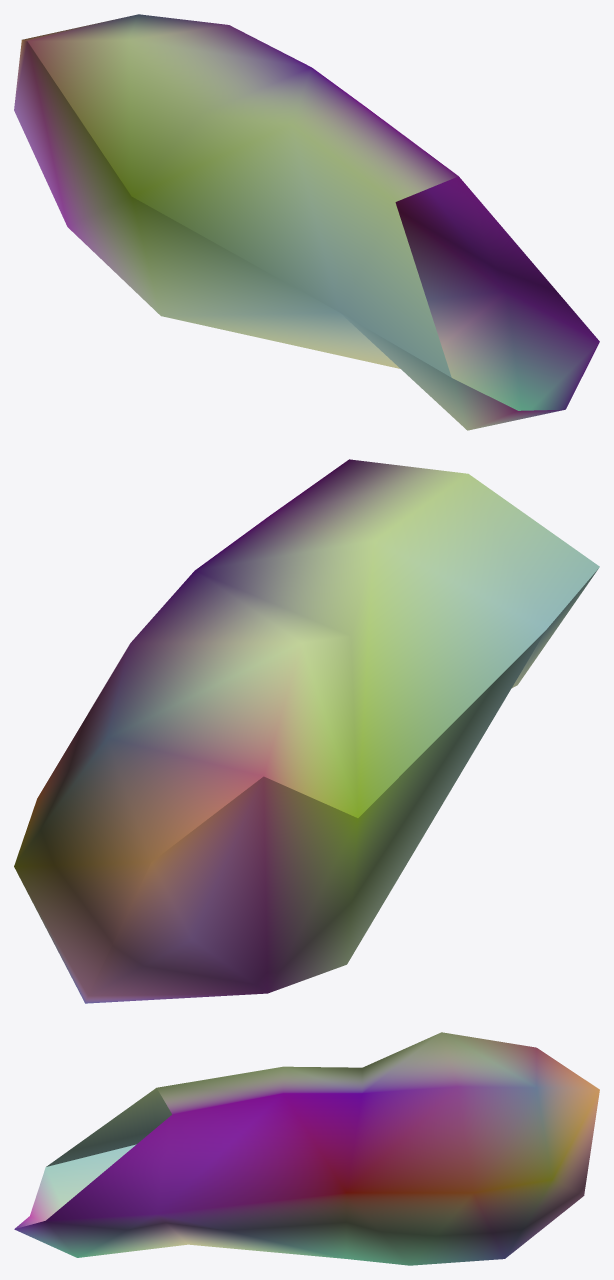
3 views of the same model, one above another, from view 1: azimuth 30°, elevation 25°; view 2: azimuth 150°, elevation 25°; view 3: azimuth 270°, elevation 25° (orthographic). The views are drawn at different scales.
Visible parts, largest first — view 1: part; view 2: part; view 3: part.
Boxes of the visible parts, x1=… form: part: x1=14, y1=14, x2=599, y2=430; part: x1=14, y1=459, x2=599, y2=1003; part: x1=14, y1=1032, x2=599, y2=1265.
Size of the model in its own units: 13 by 13 by 37.
